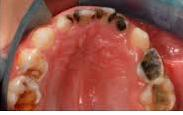Caries: (135, 50, 167, 83), (148, 81, 177, 111), (10, 90, 38, 110), (63, 10, 83, 25), (115, 15, 132, 31), (25, 65, 43, 79), (89, 7, 106, 20), (107, 10, 117, 22)
